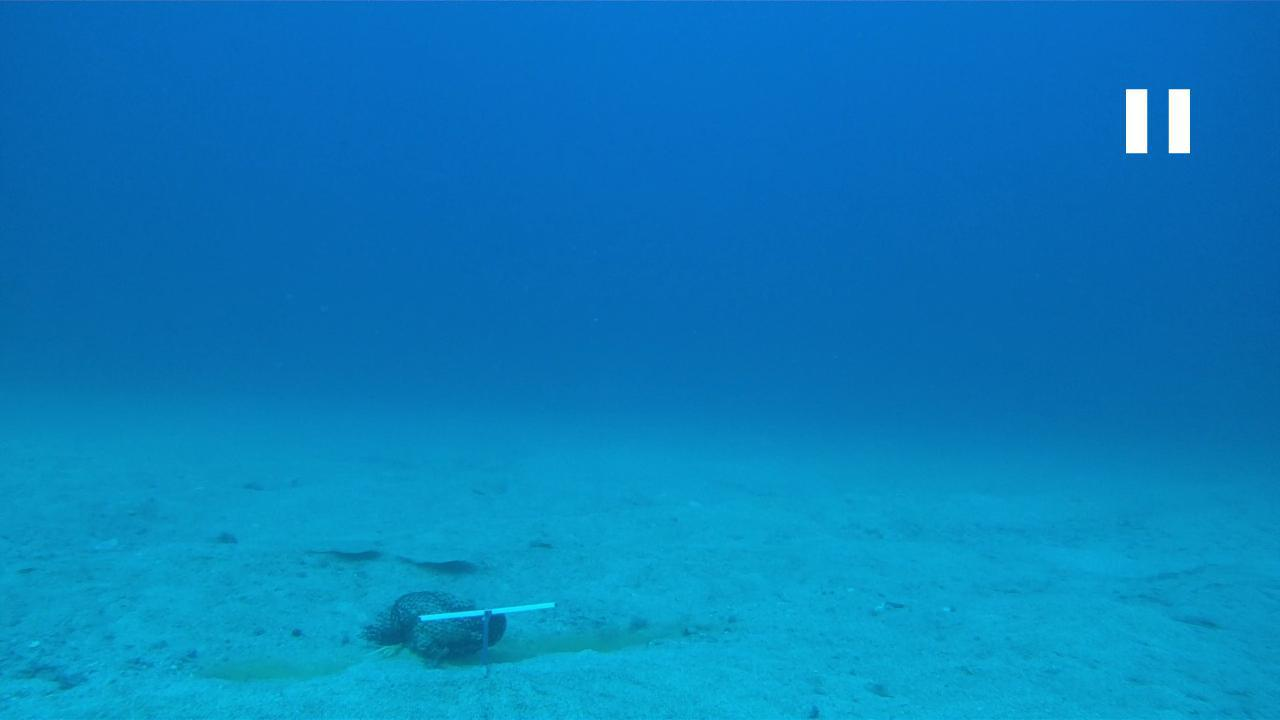bothus: (393, 546, 483, 572), (298, 541, 380, 562)
